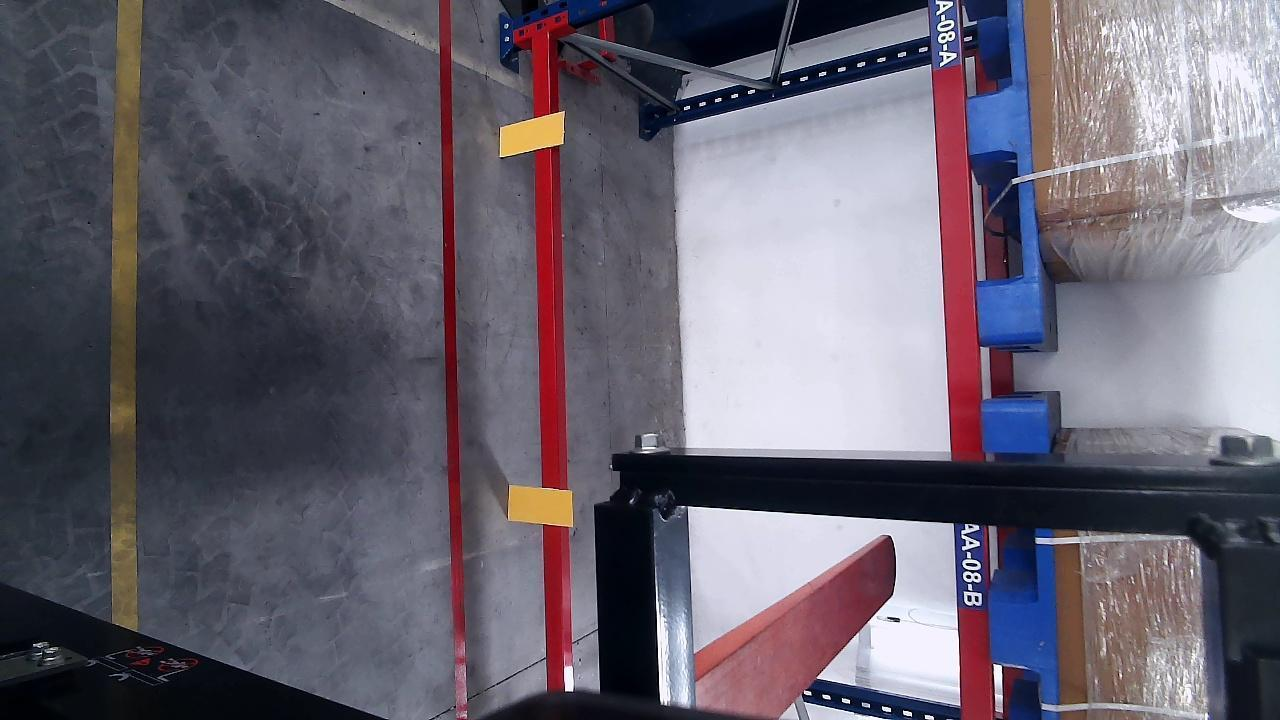red_line: (436, 0, 470, 720)
yellow_line: (108, 0, 144, 635)
